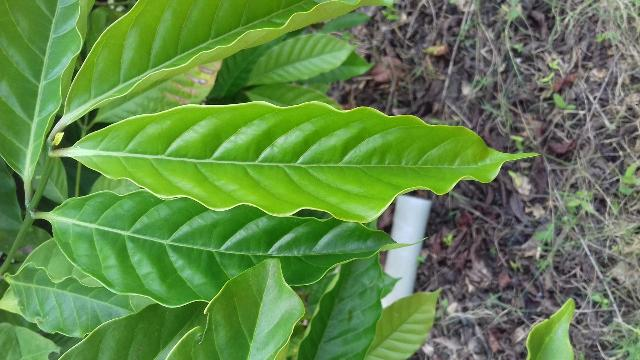healthy: (50, 97, 554, 222)
